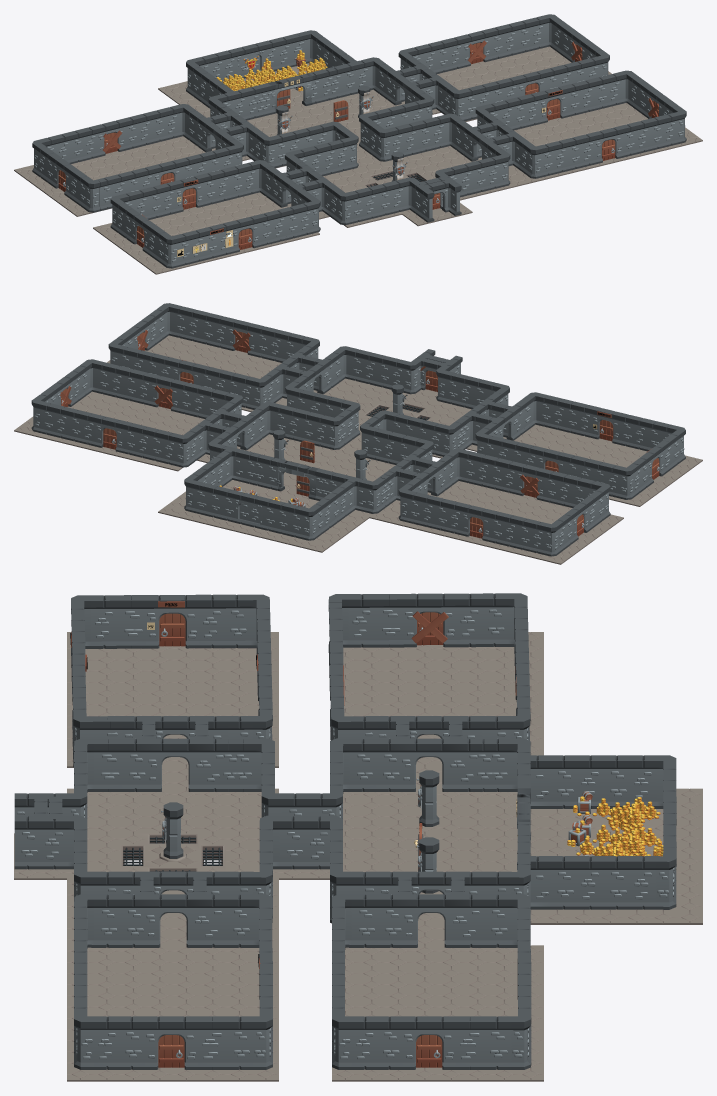
File: main_dungeon_v5.glb
3 renders of one model, top to bottom at view 1: azimuth 30°, elevation 25°; view 2: azimuth 150°, elevation 25°; view 3: azimuth 270°, elevation 25°, orthographic. The views are drawn at different scales.
Parts seen in each view (by area): view 1: wall_doorway_sides.002, wall.019, wall.008, wall.086, wall.064, wall.083, wall.088, wall.130, wall.007, wall.018, wall.065, wall.011 (+70 smaller); view 2: wall.019, wall.132, wall.138, wall.016, wall.064, wall.135, wall.139, wall.140, wall.062, wall.065, wall.136, wall.137 (+73 smaller); view 3: floor_tile_extralarge_grates_open, wall_doorway_sides.002, wall.005, wall.085, wall.031, wall.003, wall.084, wall_doorway_Tsplit.003, wall_doorway_Tsplit.016, wall_doorway_Tsplit.011, wall_doorway_Tsplit.005, wall_doorway.002 (+131 smaller).
Part boxes in pixels (x1,y1,x2,y2): wall_doorway_sides.002: [411, 174, 461, 222]; wall.019: [515, 15, 546, 53]; wall.008: [416, 115, 446, 153]; wall.086: [283, 202, 313, 239]; wall.064: [620, 119, 651, 157]; wall.083: [592, 72, 623, 110]; wall.088: [200, 168, 231, 206]; wall.130: [146, 181, 177, 219]; wall.007: [471, 156, 501, 193]; wall.018: [488, 22, 518, 60]; wall.065: [647, 112, 678, 150]; wall.011: [375, 179, 406, 216]; wall.019: [39, 401, 71, 439]; wall.132: [618, 413, 649, 450]; wall.138: [489, 510, 519, 548]; wall.016: [123, 367, 153, 405]; wall.064: [199, 311, 230, 349]; wall.135: [406, 491, 437, 528]; wall.139: [516, 517, 547, 554]; wall.140: [543, 469, 574, 507]; wall.062: [254, 325, 285, 362]; wall.065: [172, 305, 203, 342]; wall.136: [434, 497, 464, 534]; wall.137: [488, 456, 519, 494]; floor_tile_extralarge_grates_open: [120, 833, 225, 871]; wall_doorway_sides.002: [14, 793, 67, 869]; wall.005: [550, 856, 603, 909]; wall.085: [603, 856, 656, 909]; wall.031: [279, 815, 332, 869]; wall.003: [550, 755, 603, 808]; wall.084: [603, 755, 656, 808]; wall_doorway_Tsplit.003: [120, 885, 161, 947]; wall_doorway_Tsplit.016: [378, 885, 419, 947]; wall_doorway_Tsplit.011: [122, 730, 162, 791]; wall_doorway_Tsplit.005: [376, 730, 416, 791]; wall_doorway.002: [402, 1016, 455, 1069].
Bounding box in the file's own units: 80 × 5.13 × 52.
Materials: 34 (24 with a texture image).
